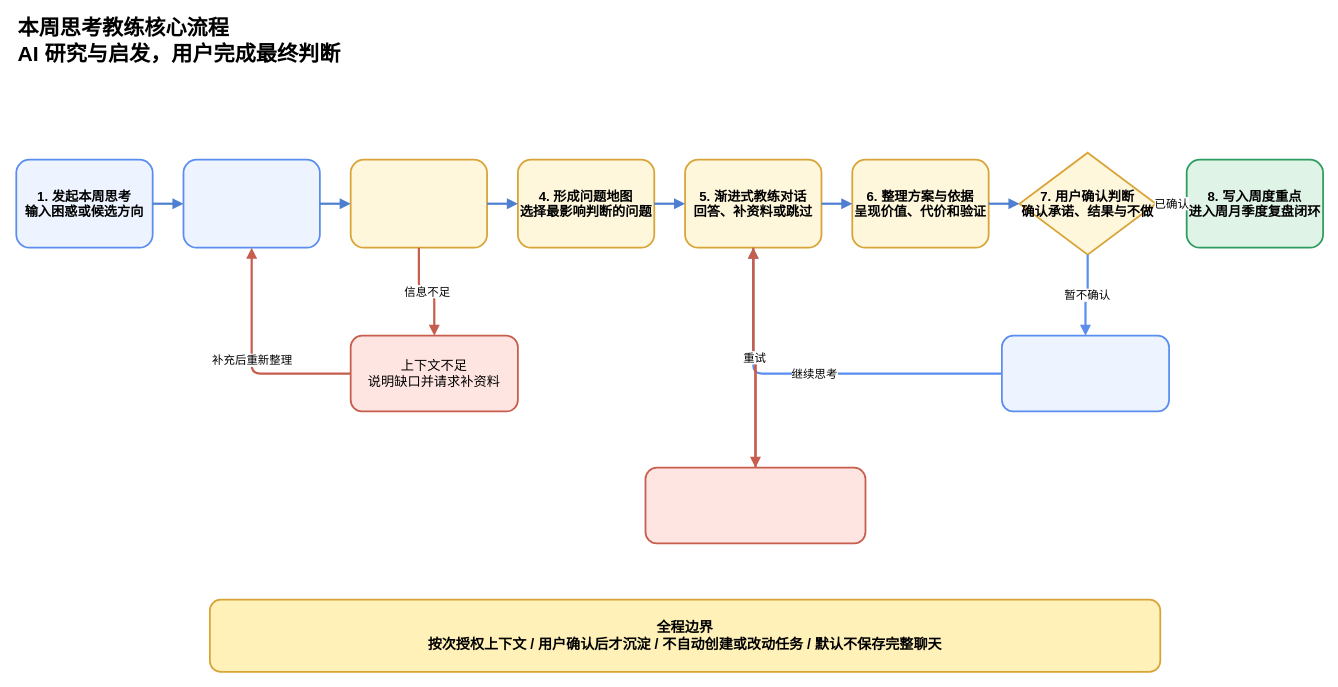
This 1338x687 diagram has some shape labels left out. The centre of each missing label's shape, as x and y in pixels:
"2. 选择授权上下文 确认本次可读取范围" goes at (251,203).
"3. AI 整理事实与缺口 区分事实、假设和来源" goes at (418,203).
"AI 失败或模型不可用 保留输入，可重试或人工继续" goes at (755,505).
"用户暂未确认 保存草稿，不创建任务" goes at (1085,373).
